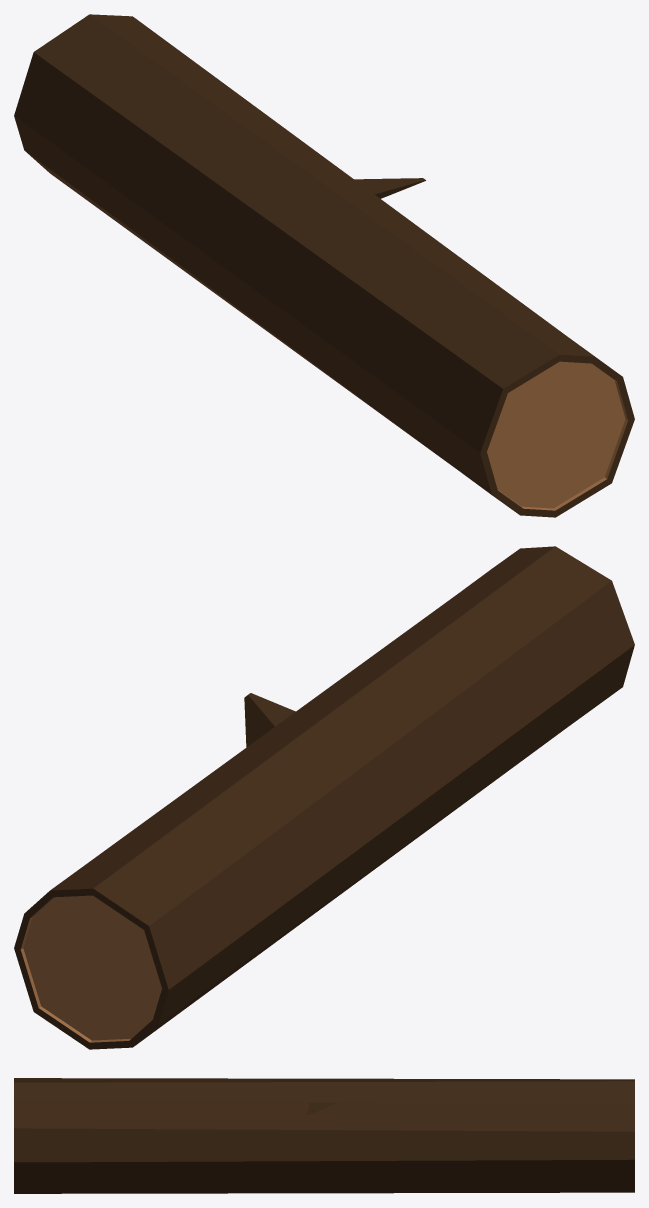
The model's file is Log.glb.
3 renders of one model, top to bottom at view 1: azimuth 30°, elevation 25°; view 2: azimuth 150°, elevation 25°; view 3: azimuth 270°, elevation 25°, orthographic. The views are drawn at different scales.
Visible parts, largest first — view 1: Buche; view 2: Buche; view 3: Buche.
Part boxes in pixels (x1,y1,x2,y2): Buche: (14,14,634,517); Buche: (14,546,634,1049); Buche: (14,1078,634,1193).
Size of the model in its own units: 1.45 by 1.33 by 6.93.
Materials: 2 (2 with a texture image).
